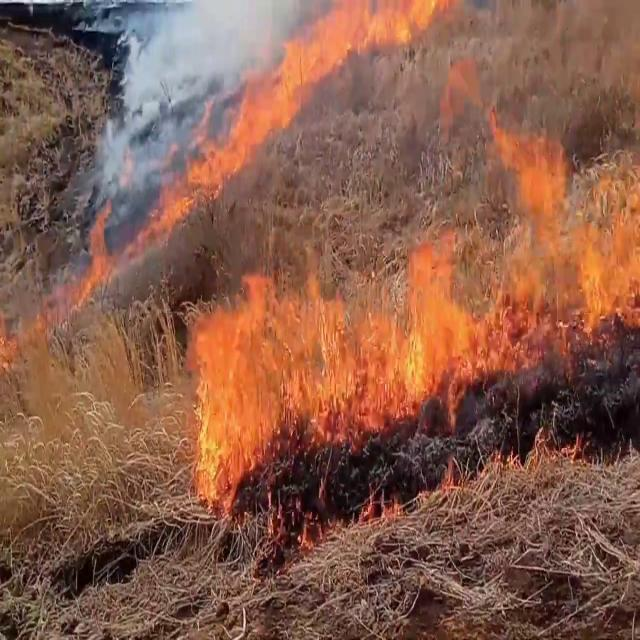Fire: (379, 79, 640, 412), (177, 252, 355, 508), (152, 47, 294, 232), (279, 0, 454, 77), (78, 198, 119, 298)
Smoke: (86, 0, 220, 189)
